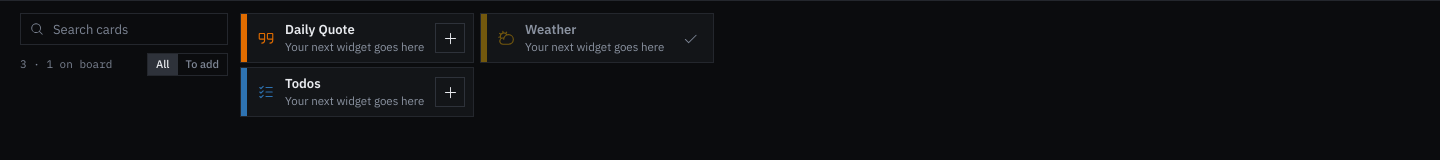
Test: search › filters the tiles by title as you type, ignoring case
Type "QUO" into the search field labelled "Search cards". click: (124, 29)
box: [20,13,228,45]
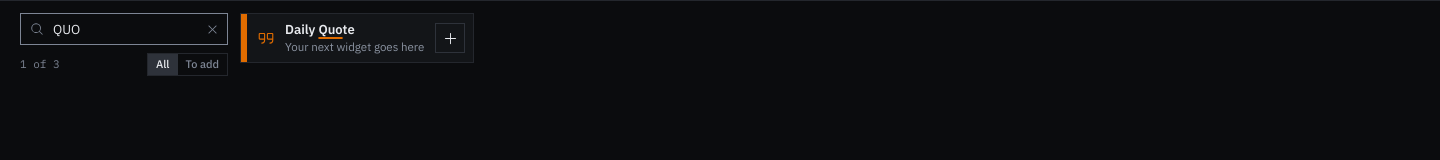
Expected: the list item shows "Daily Quote", [241,14,473,62]
Expected: the number of list items is 1, [241,14,473,62]
